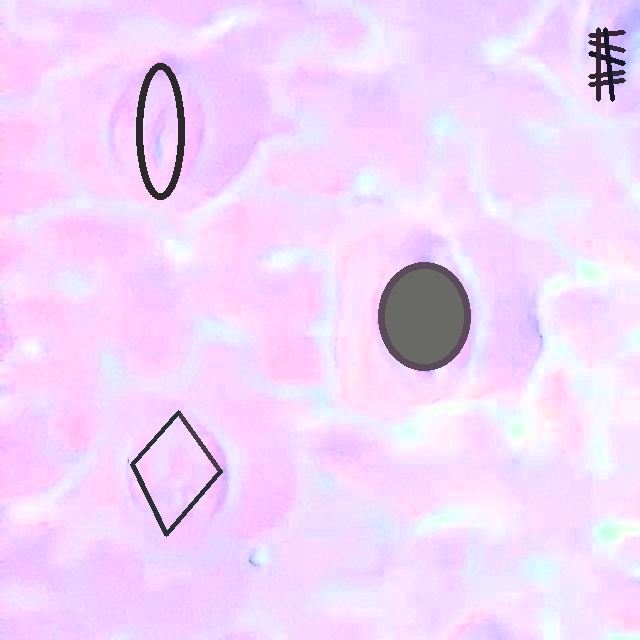close: (131, 411, 221, 535)
open: (378, 263, 469, 370), (135, 63, 185, 198), (588, 27, 625, 101)
